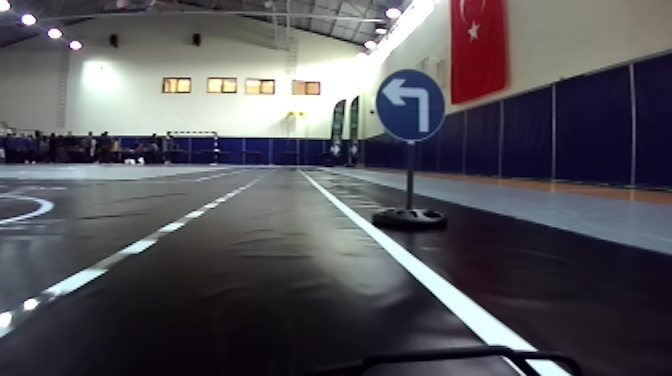sola_donus: (368, 66, 449, 144)
